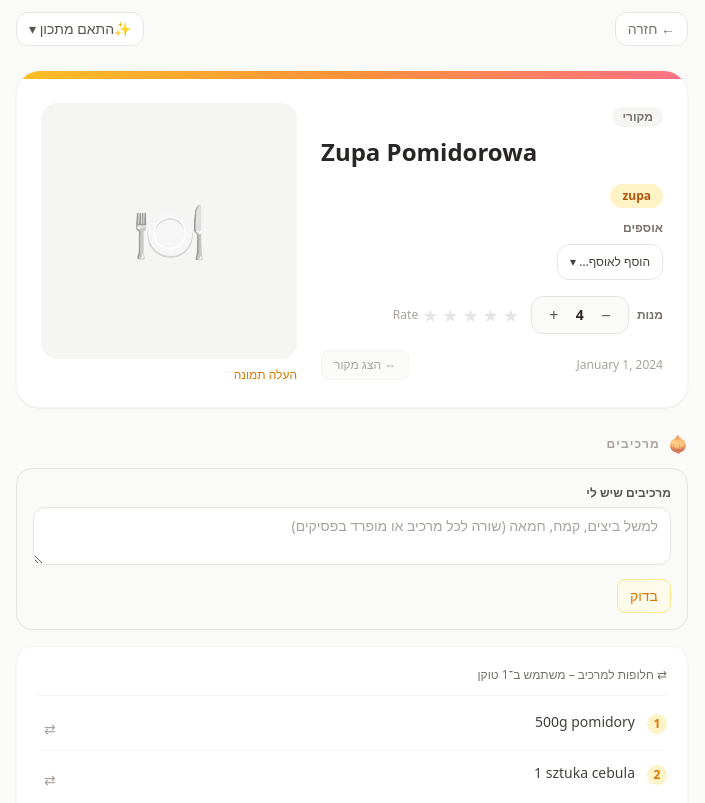
RecipeDetailPage — collections dropdown (RTL) › collections dropdown is visible and shows Hebrew collection names when UI is in Hebrew
Expected: the heading "Zupa Pomidorowa" is shown, [321,135,537,168]
Click the button "הוסף לאוסף… ▾". click: (610,262)
box: [557,244,663,280]
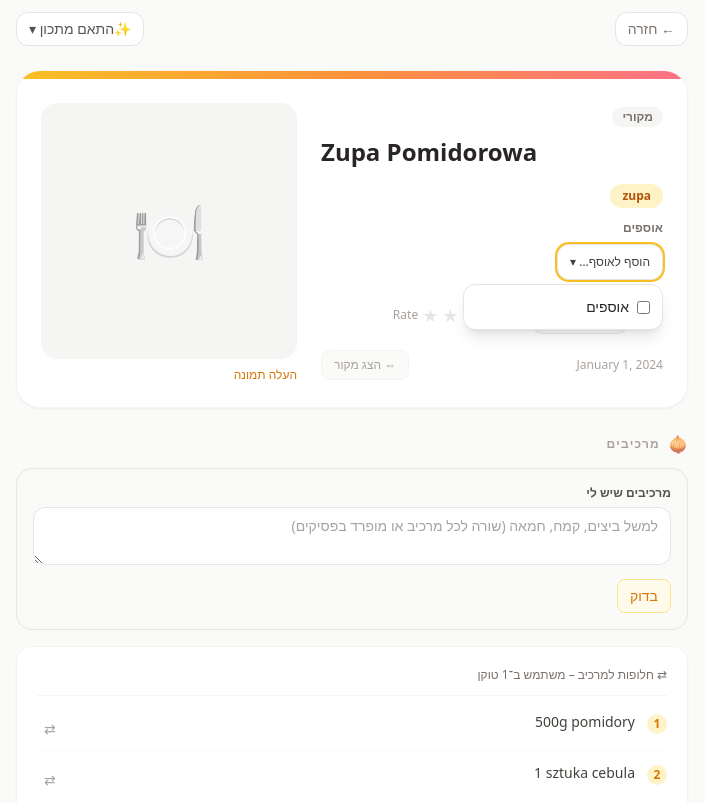
Now the 2nd text "אוספים" is shown, box [586,297,629,317]
Now the element showing "אוספים" is shown, box [463,284,663,330]
